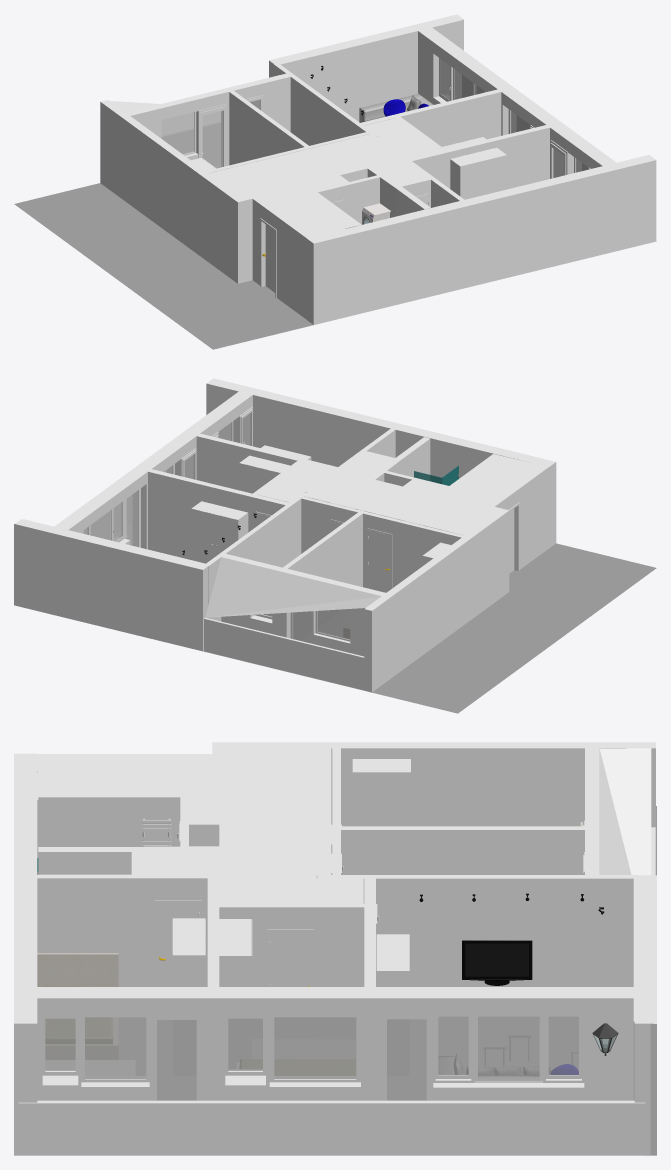
File: wohnung_3.obj
3 renders of one model, top to bottom at view 1: azimuth 30°, elevation 25°; view 2: azimuth 150°, elevation 25°; view 3: azimuth 270°, elevation 25°, orthographic. The views are drawn at different scales.
Visible parts, largest first — view 1: ground_1, wall_37_223, wall_38_229, wall_14_85, room_51_267, wall_3_17, wall_19_115, wall_42_255, wall_8_49, wall_12_72, wall_28_169, wall_13_79 (+25 smaller); view 2: ground_1, wall_3_18, wall_14_85, room_51_267, room_52_269, wall_38_228, wall_21_127, wall_42_254, wall_11_67, wall_13_79, wall_19_115, wall_23_139 (+28 smaller); view 3: wall_5_30, room_51_267, wall_23_138, wall_14_84, wall_1_6, wall_13_78, wall_25_151, wall_2_11, room_44_259, room_52_269, wall_6_36, wall_7_42 (+69 smaller).
Boxes of the visible parts, x1=… form: ground_1: x1=14, y1=183, x2=656, y2=349; wall_37_223: x1=317, y1=205, x2=469, y2=324; wall_38_229: x1=469, y1=169, x2=617, y2=286; wall_14_85: x1=100, y1=102, x2=237, y2=283; room_51_267: x1=209, y1=118, x2=440, y2=236; wall_3_17: x1=272, y1=20, x2=461, y2=121; wall_19_115: x1=252, y1=199, x2=306, y2=319; wall_42_255: x1=401, y1=92, x2=501, y2=146; wall_8_49: x1=618, y1=160, x2=656, y2=250; wall_12_72: x1=131, y1=77, x2=290, y2=165; wall_28_169: x1=446, y1=127, x2=549, y2=189; wall_13_79: x1=229, y1=92, x2=303, y2=165; ground_1: x1=203, y1=543, x2=656, y2=713; wall_3_18: x1=14, y1=524, x2=206, y2=651; wall_14_85: x1=368, y1=511, x2=509, y2=692; room_51_267: x1=258, y1=453, x2=542, y2=535; room_52_269: x1=205, y1=557, x2=381, y2=617; wall_38_228: x1=253, y1=395, x2=390, y2=466; wall_21_127: x1=204, y1=619, x2=364, y2=690; wall_42_254: x1=148, y1=471, x2=251, y2=559; wall_11_67: x1=301, y1=498, x2=461, y2=587; wall_13_79: x1=287, y1=513, x2=362, y2=640; wall_19_115: x1=495, y1=467, x2=548, y2=569; wall_23_139: x1=208, y1=505, x2=292, y2=621; wall_5_30: x1=18, y1=1103, x2=645, y2=1155; room_51_267: x1=37, y1=748, x2=363, y2=904; wall_23_138: x1=376, y1=878, x2=633, y2=986; wall_14_84: x1=316, y1=748, x2=655, y2=878; wall_1_6: x1=364, y1=998, x2=633, y2=1100; wall_13_78: x1=341, y1=830, x2=584, y2=874; wall_25_151: x1=37, y1=878, x2=135, y2=986; wall_2_11: x1=219, y1=907, x2=364, y2=1038; room_44_259: x1=387, y1=1017, x2=578, y2=1100; room_52_269: x1=599, y1=748, x2=651, y2=875; wall_6_36: x1=213, y1=998, x2=370, y2=1100; wall_7_42: x1=37, y1=998, x2=213, y2=1100.
Bounding box in the file's own units: 1425 × 250 × 1107.
